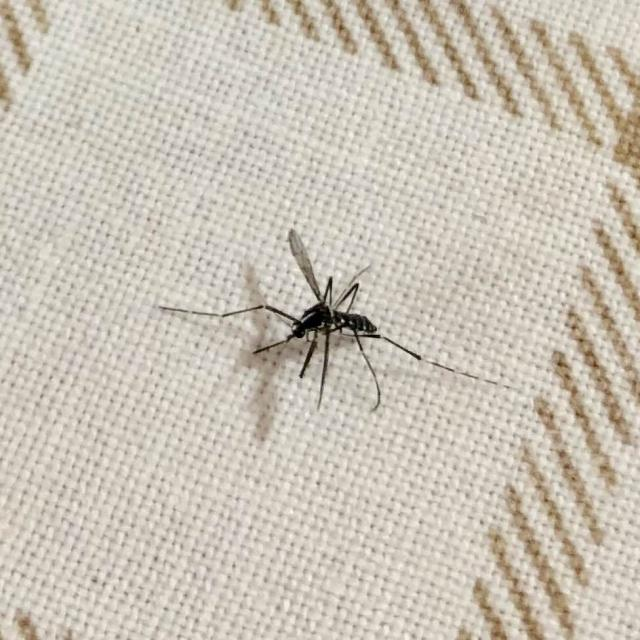albopictus: (155, 220, 477, 414)
